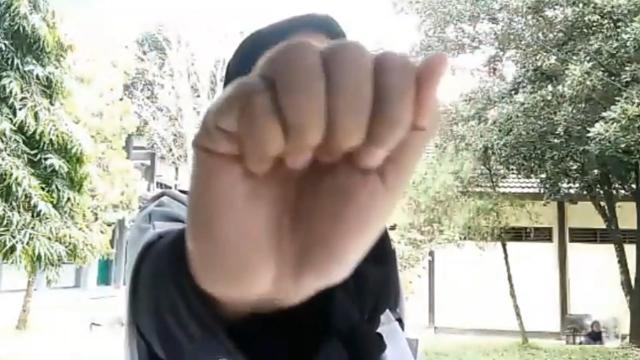A: (176, 39, 452, 313)
